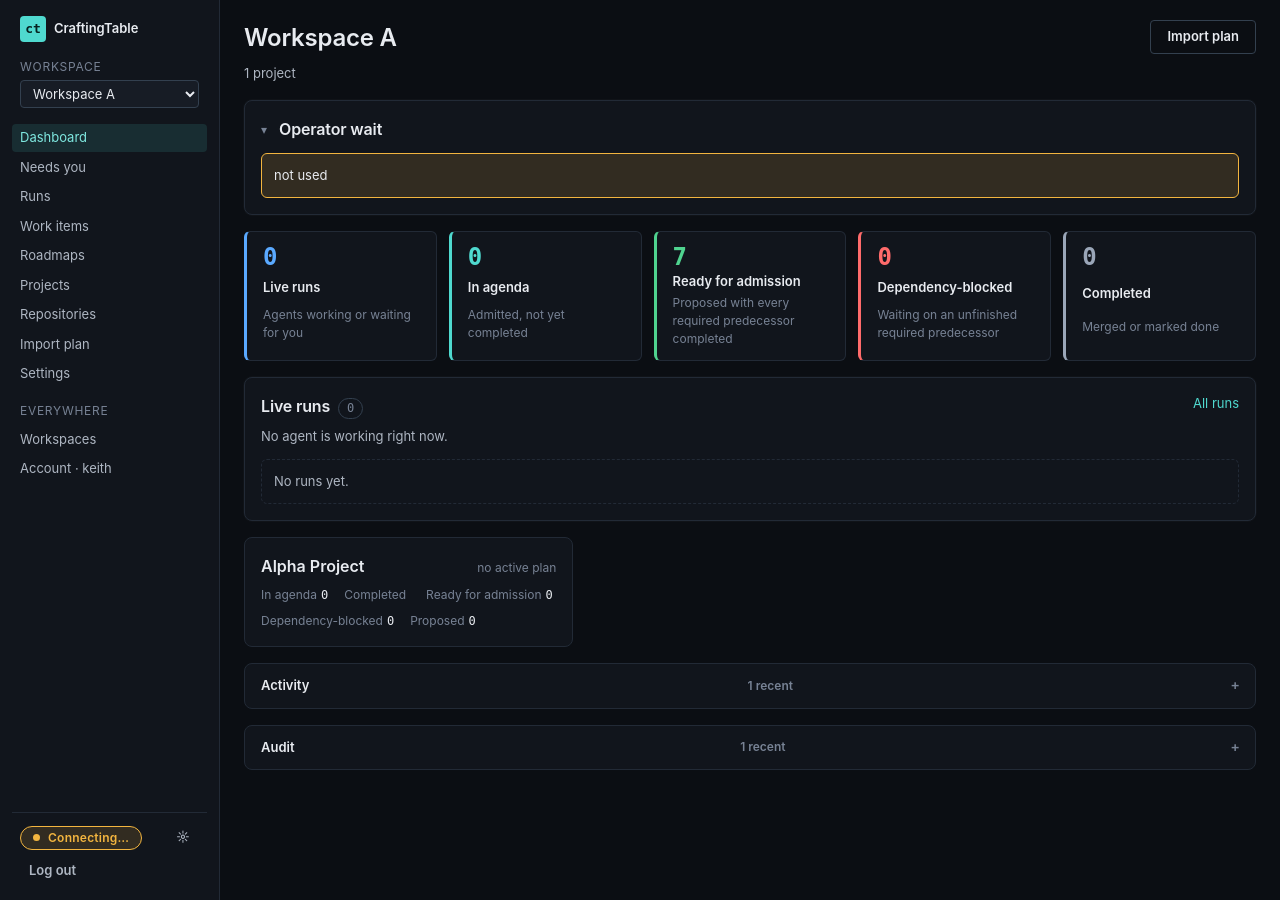
workspace switching in the app (CT03-RR4) › keeps the previous workspace hidden when the new snapshot fails
Check: the button "Alpha Project" is shown, box [261, 554, 364, 578]
Select "Workspace B" in the dropdown labelled "Workspace" at (110, 94), box [20, 80, 199, 108]
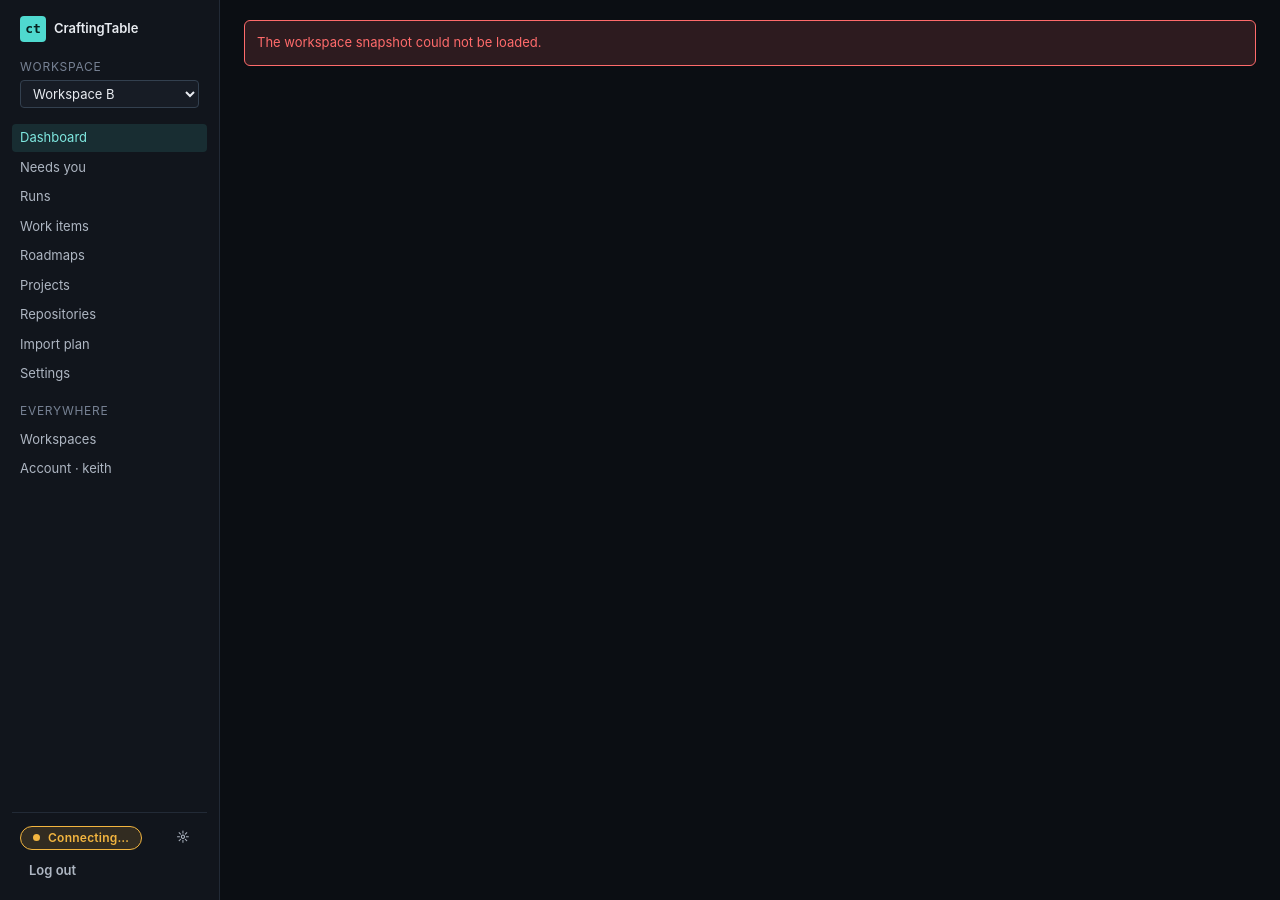
Check: the text "The workspace snapshot could not be loaded." is shown, box [244, 20, 1256, 66]
Check: the button "Alpha Project" is gone
